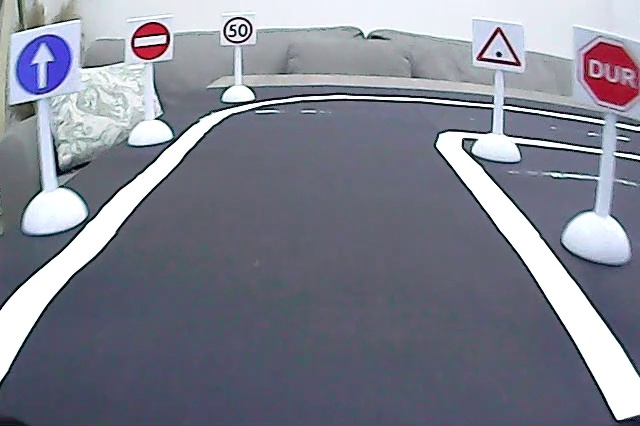do not enter: (130, 18, 172, 60)
green light: (473, 22, 524, 70)
speed limit 50: (221, 15, 255, 45)
stop sign: (575, 32, 640, 115)
